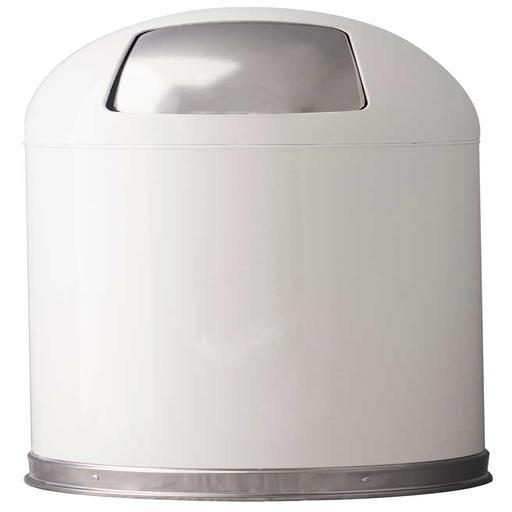Crewmate: (26, 5, 494, 494)
